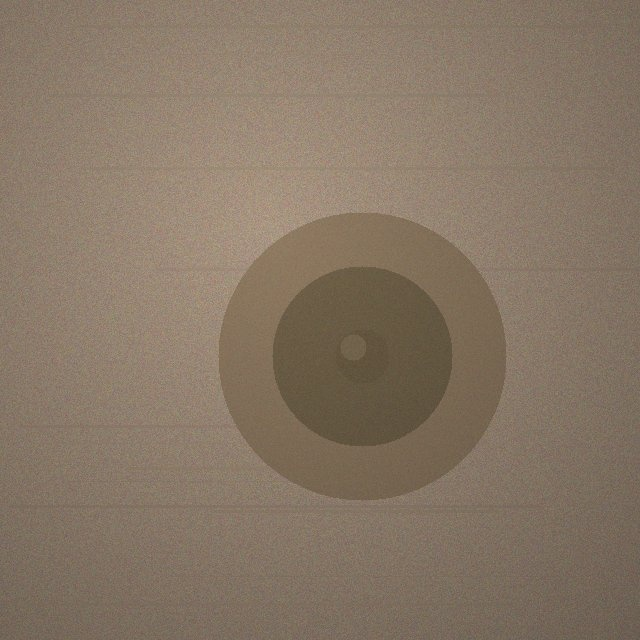good: (218, 212, 506, 500)
